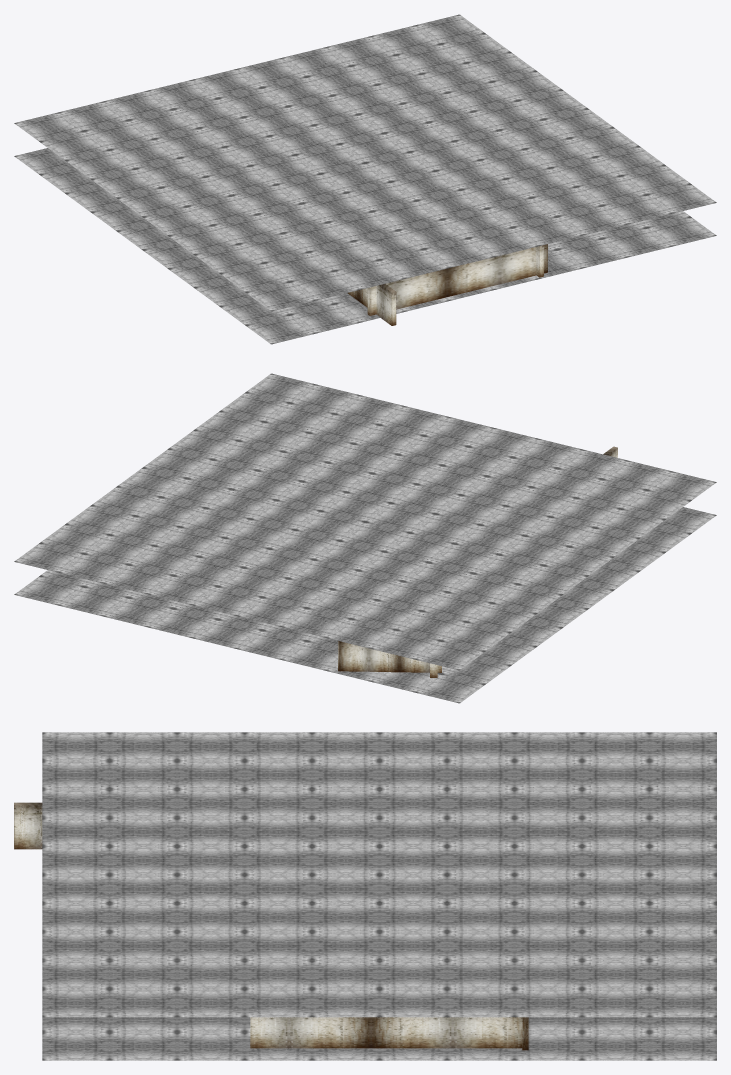
The picture shows the model from 3 angles, top to bottom: view 1: azimuth 30°, elevation 25°; view 2: azimuth 150°, elevation 25°; view 3: azimuth 270°, elevation 25°; orthographic projection. The views are drawn at different scales.
Parts seen in each view (by area): view 1: Ceiling, Floor, Wall.023, Wall.022; view 2: Ceiling, Floor, Wall.019; view 3: Ceiling, Floor, Wall.005, Wall.022.
Part boxes in pixels (x1,y1,x2,y2): Ceiling: (14,14,716,311); Floor: (14,148,716,344); Wall.023: (367,244,547,315); Wall.022: (348,283,396,325); Ceiling: (14,373,716,670); Floor: (14,507,716,703); Wall.019: (338,641,441,672); Ceiling: (42,732,716,1017); Floor: (42,1017,716,1060); Wall.005: (250,1017,522,1048); Wall.022: (14,802,42,849).
Size of the model in its own units: 63.86 by 4.6 by 66.53.
3 materials, 3 textured.
